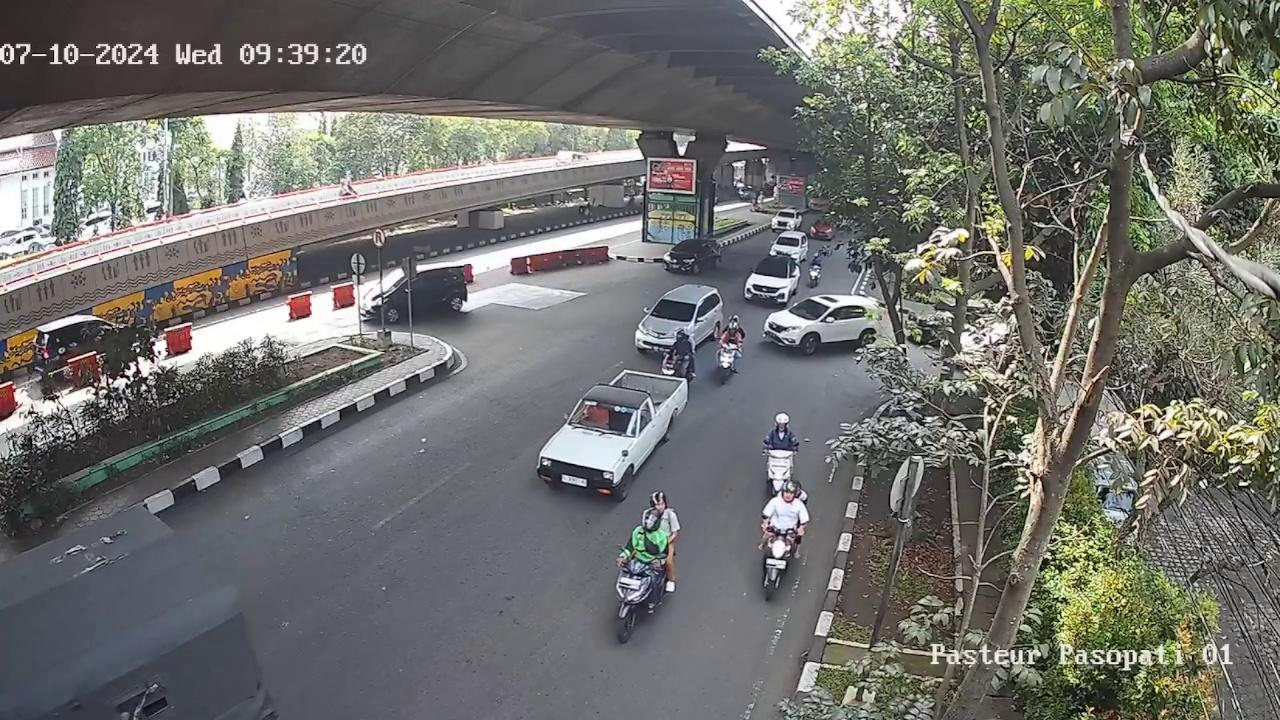tidak-pakai: (582, 405, 611, 426)
windshield: (568, 401, 640, 436), (651, 300, 695, 321), (791, 298, 828, 321), (756, 262, 788, 276)
